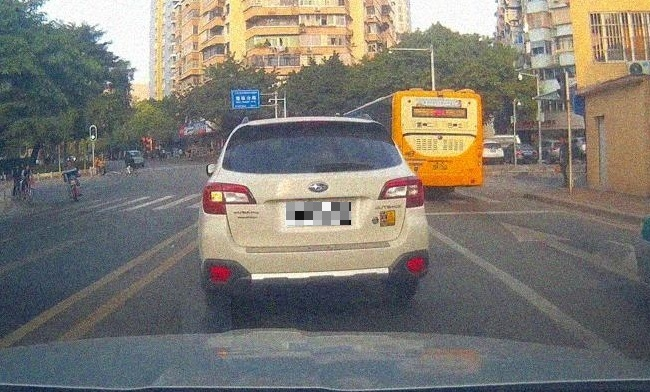L_light: (202, 182, 257, 215)
R_light: (377, 176, 424, 209)
T_light: (295, 121, 325, 126)
day-left: (197, 116, 430, 307)
plate_1: (286, 202, 351, 225)
